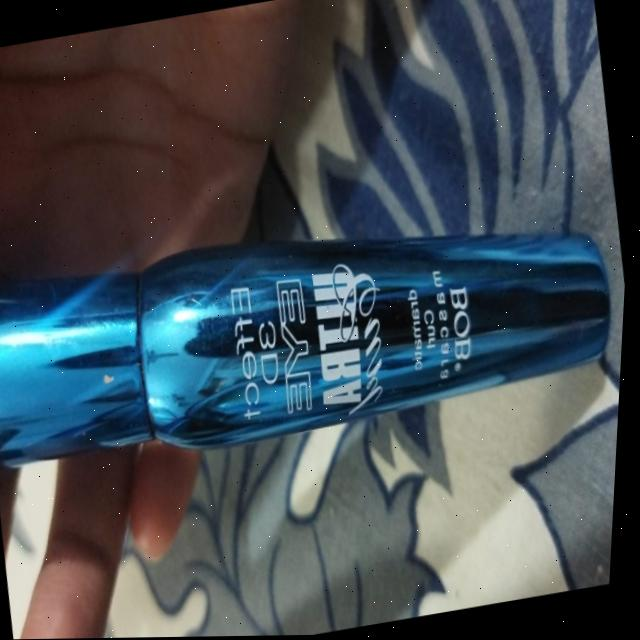mascara: (0, 128, 634, 576)
